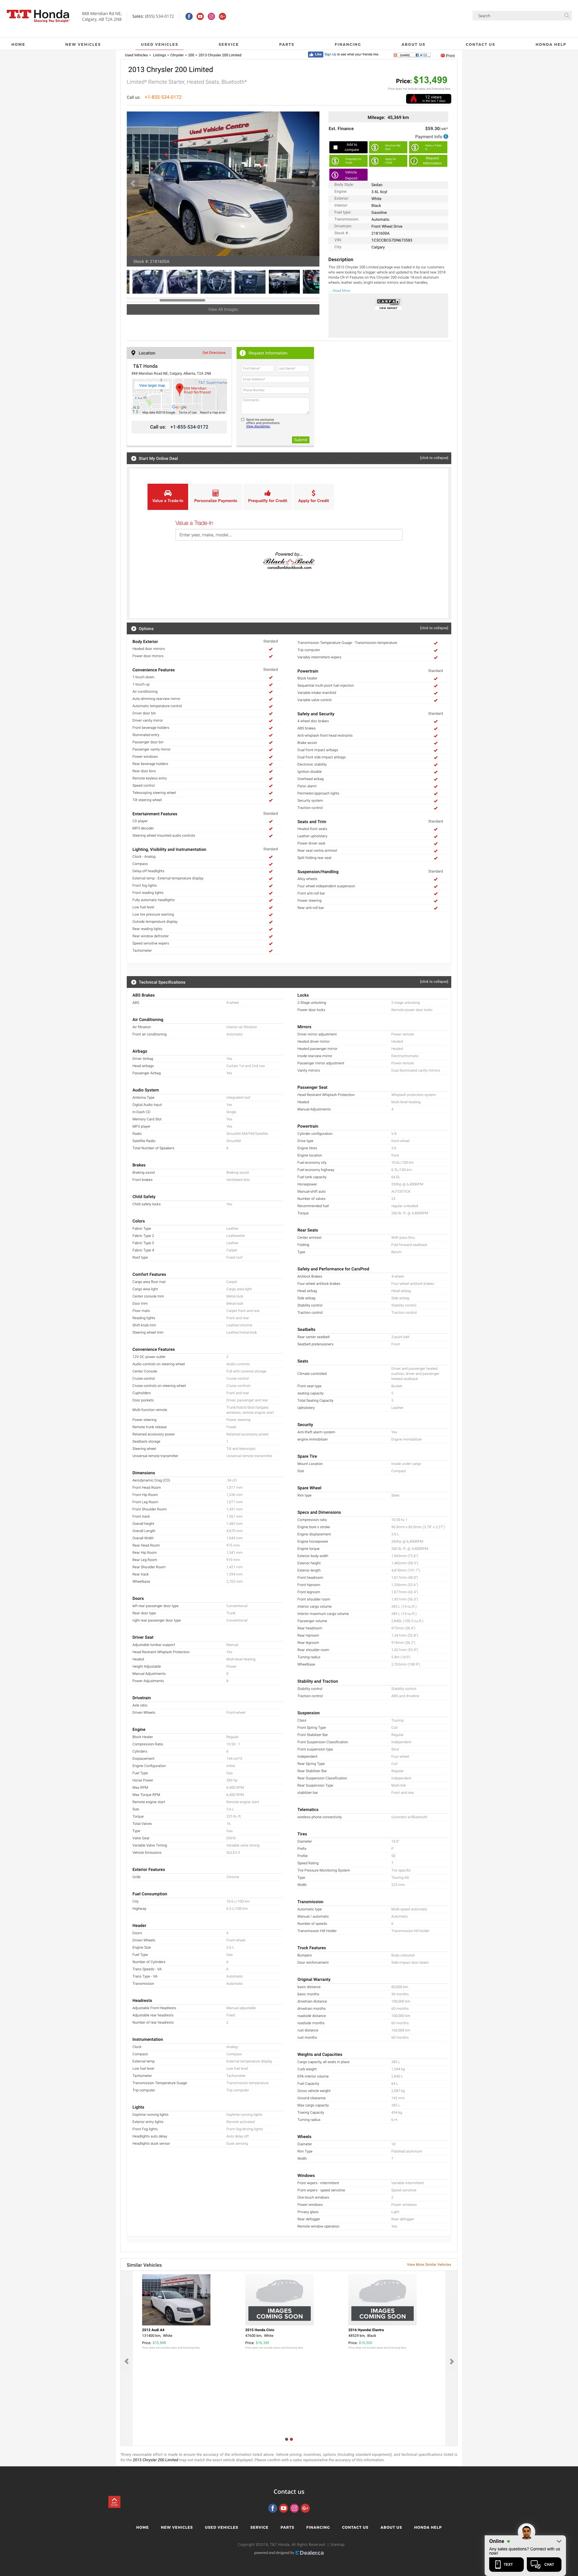car: (312, 181, 317, 187)
